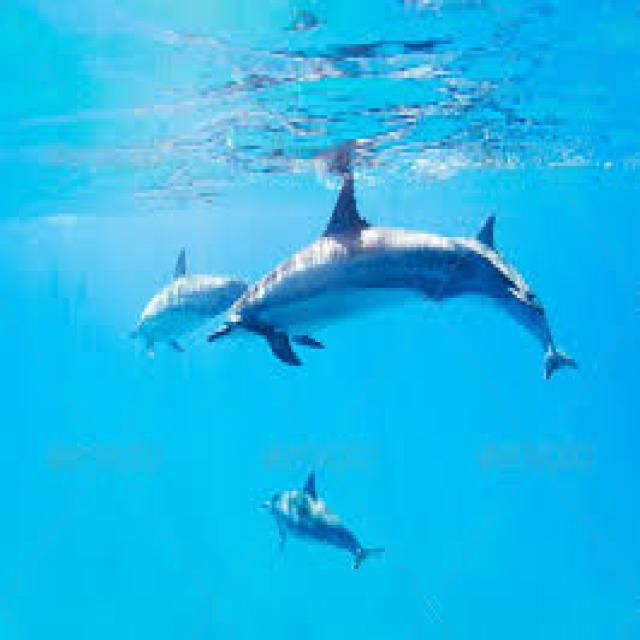dolphin: (219, 146, 616, 447), (262, 467, 404, 603)
